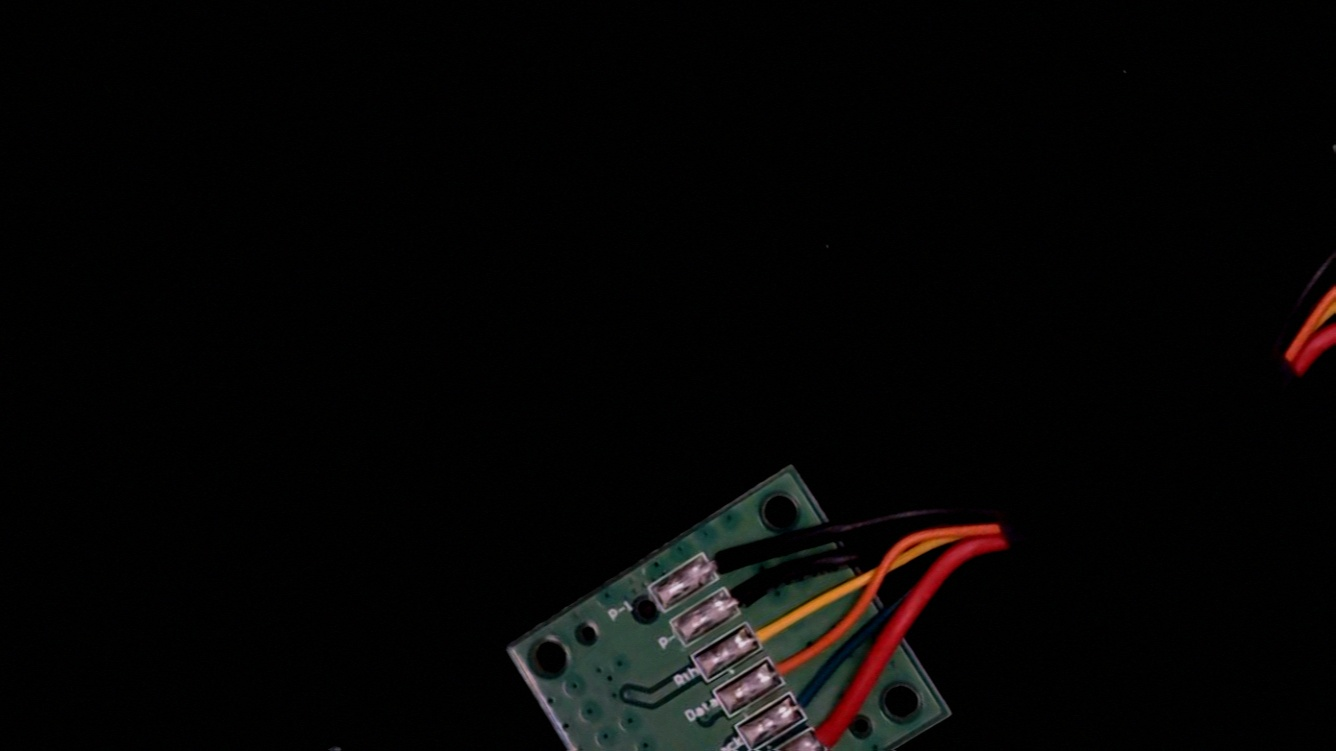Black: (710, 564, 785, 623)
Black1: (688, 532, 756, 590)
Green: (775, 672, 845, 730)
Orange: (754, 637, 824, 694)
Red: (798, 707, 870, 751)
Yellow: (730, 598, 808, 661)
